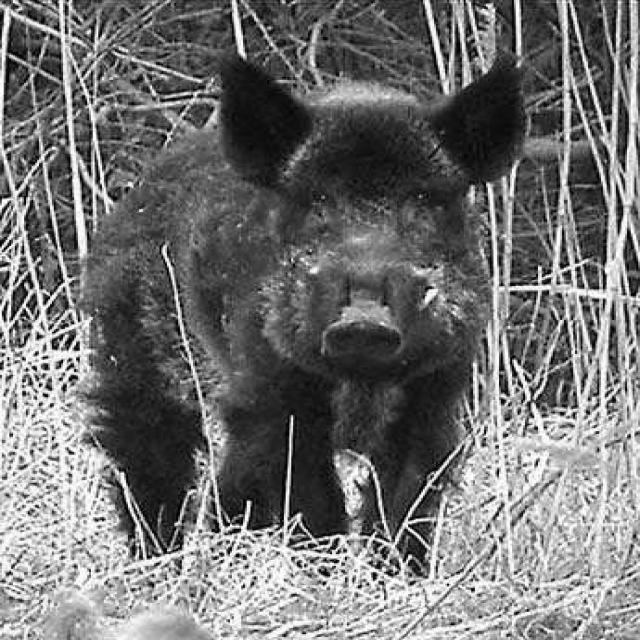boar: (70, 28, 570, 563)
